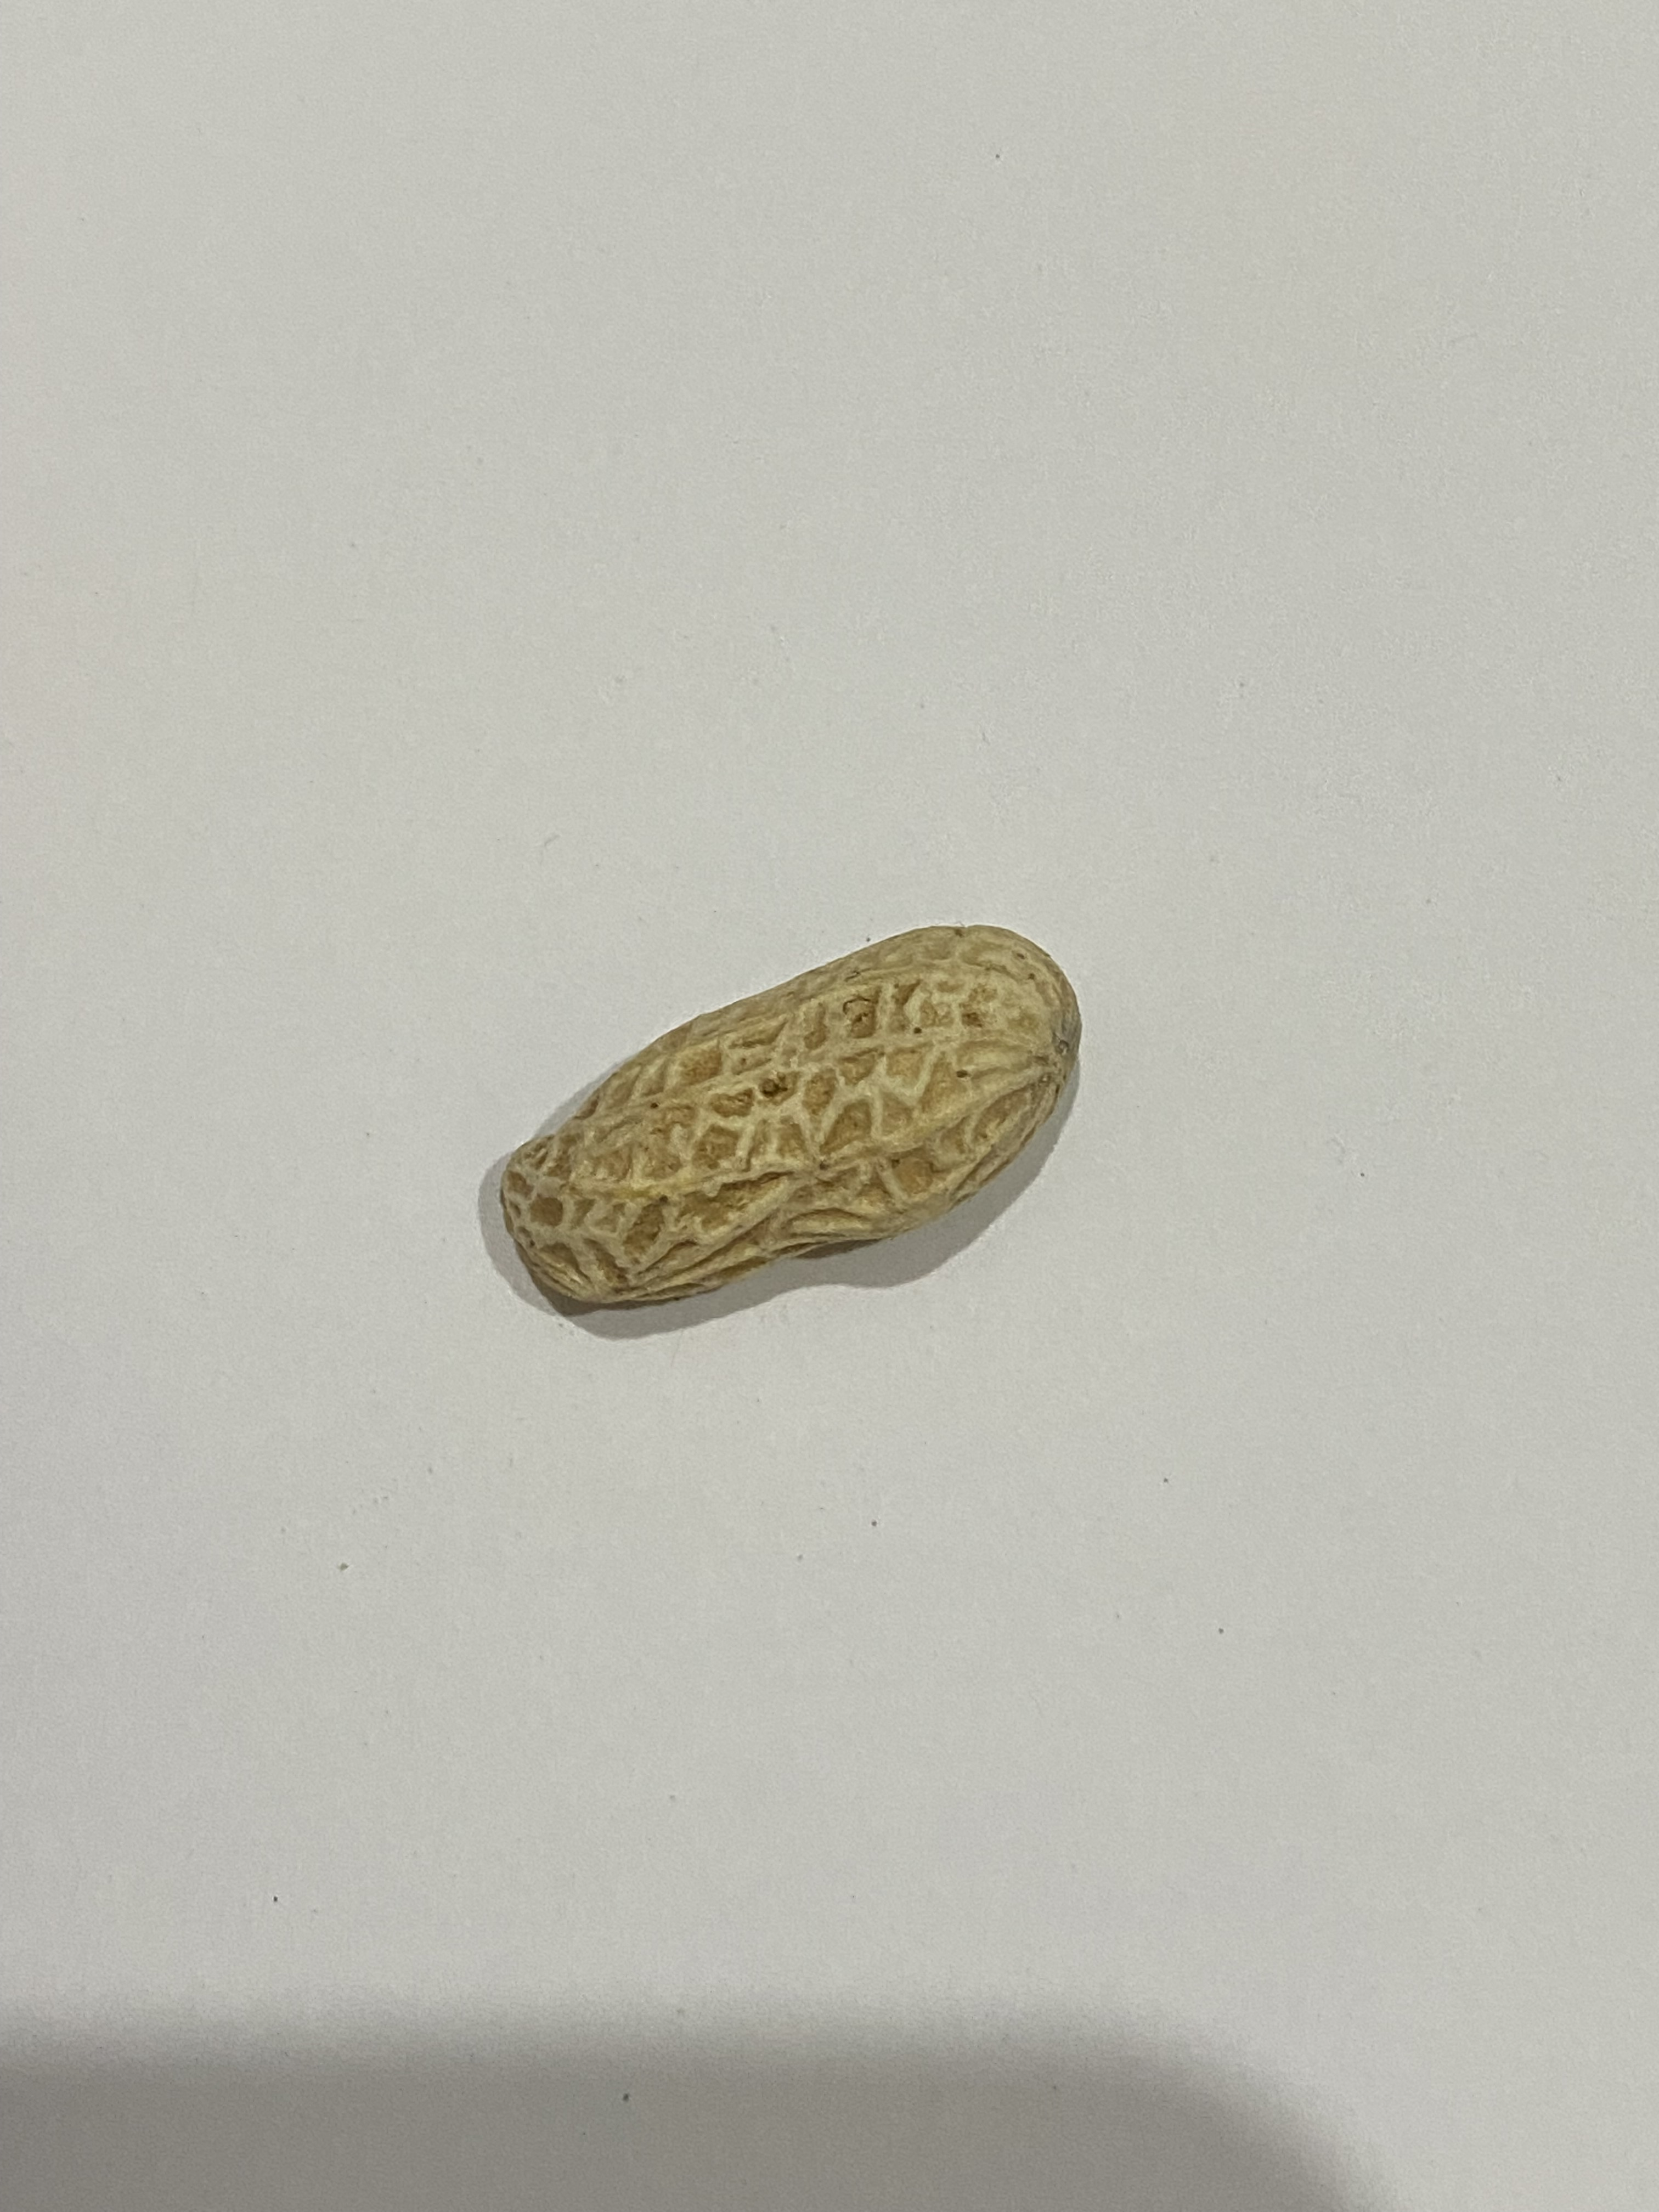kacang2: (484, 921, 1084, 1332)
